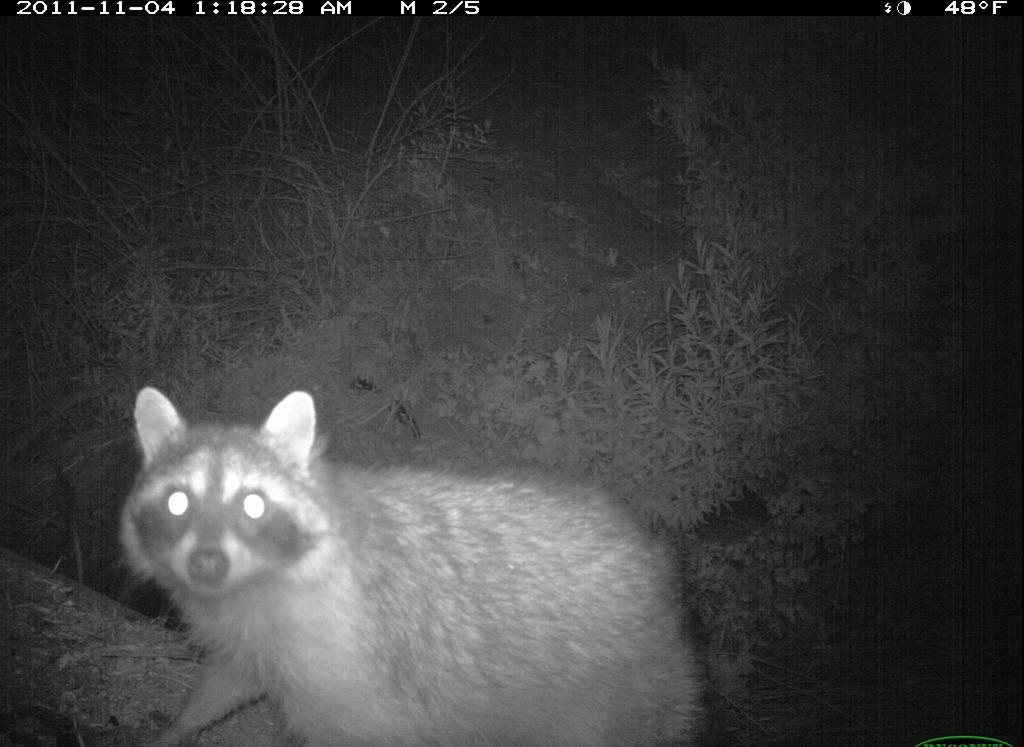raccoon: (90, 387, 729, 747)
